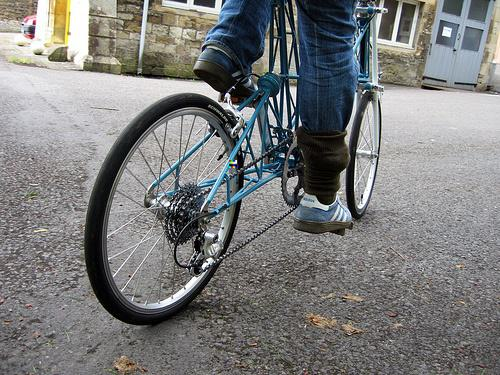car: (83, 1, 383, 328)
person: (192, 2, 360, 234)
